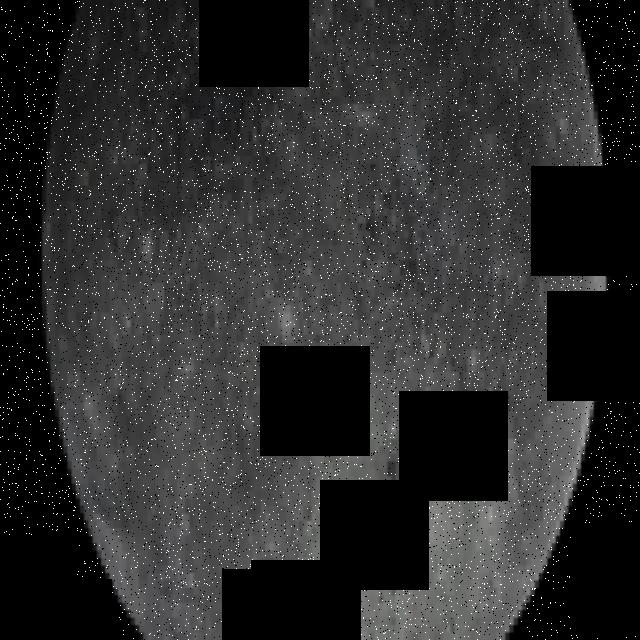Mercury: (42, 0, 610, 640)
